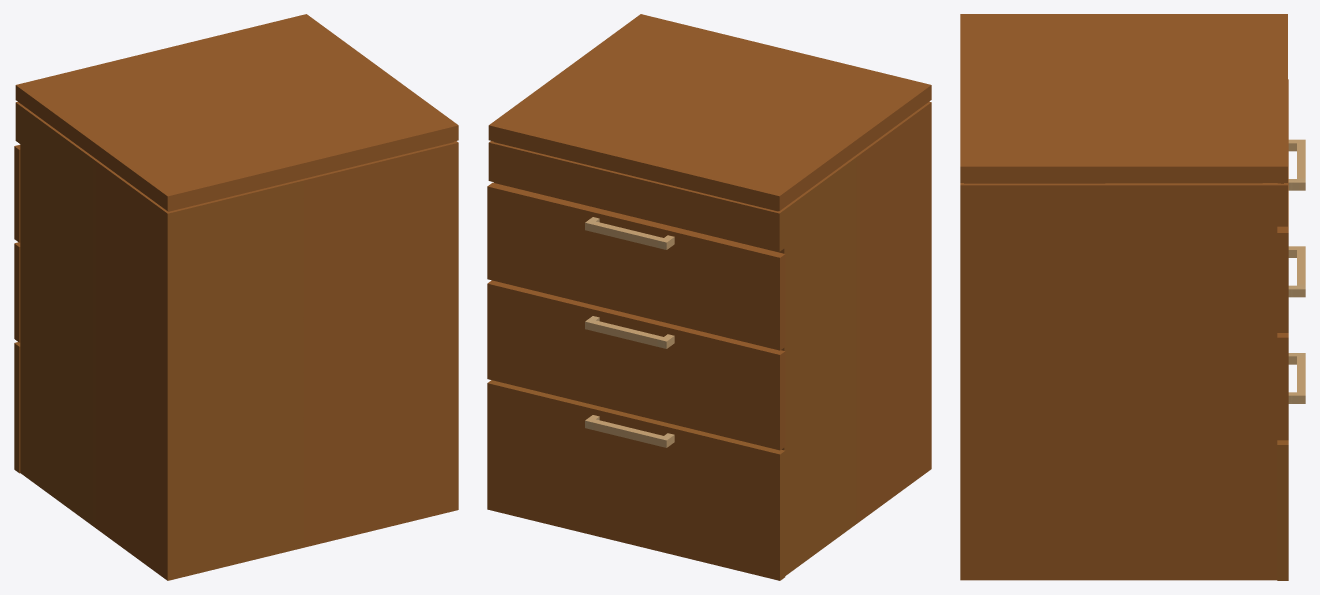
Rendered from Drawer02.glb.
3 renders of one model, left to right at view 1: azimuth 30°, elevation 25°; view 2: azimuth 150°, elevation 25°; view 3: azimuth 270°, elevation 25°, orthographic. The views are drawn at different scales.
Parts seen in each view (by area): view 1: Drawer_Body02, Drawer02_3, Drawer02_2, Drawer02_1; view 2: Drawer_Body02, Drawer02_3, Drawer02_2, Drawer02_1; view 3: Drawer_Body02, Drawer02_3, Drawer02_1, Drawer02_2.
Part boxes in pixels (x1,y1,x2,y2): Drawer_Body02: (15,14,458,580); Drawer02_3: (14,342,20,473); Drawer02_2: (14,242,20,342); Drawer02_1: (14,145,20,242); Drawer_Body02: (488,14,931,575); Drawer02_3: (487,380,785,580); Drawer02_2: (487,280,785,450); Drawer02_1: (487,182,785,350); Drawer_Body02: (960,14,1287,580); Drawer02_3: (1277,353,1305,580); Drawer02_1: (1277,79,1305,332); Drawer02_2: (1277,246,1305,440).
Bounding box in the file's own units: 1.16 × 1.46 × 1.1.
Materials: 1 (1 with a texture image).
